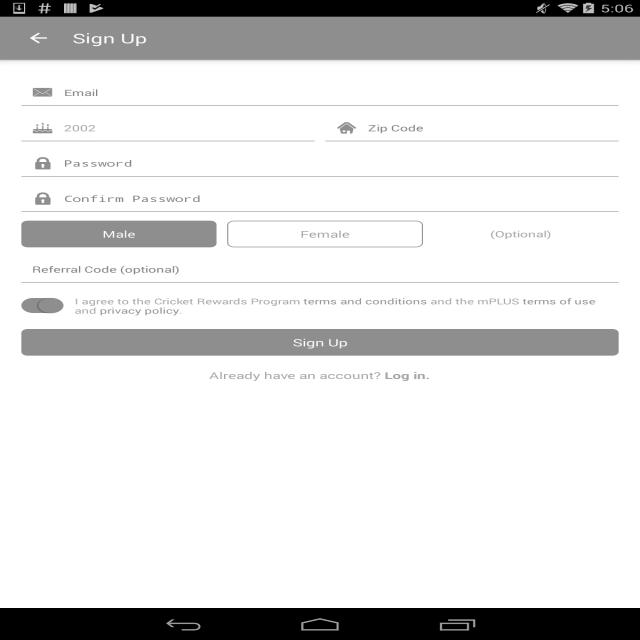Button: (21, 329, 619, 356), (227, 221, 423, 247), (22, 221, 216, 247)
EditText: (21, 256, 619, 283), (64, 79, 619, 106), (64, 150, 619, 177), (64, 185, 619, 212), (368, 115, 619, 141)
ImageButton: (9, 19, 68, 57)
ImageView: (32, 121, 53, 135), (336, 121, 357, 135), (32, 86, 53, 99), (32, 157, 53, 170), (32, 192, 53, 205)
Switch: (21, 297, 64, 314)
TextView: (74, 296, 618, 316), (64, 115, 315, 141), (209, 369, 430, 382), (423, 228, 619, 240), (73, 29, 147, 47)
